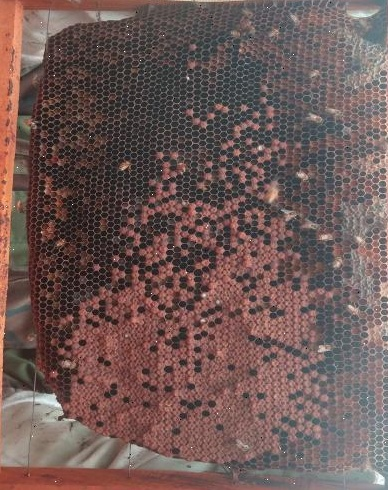cria: (47, 63, 330, 463)
